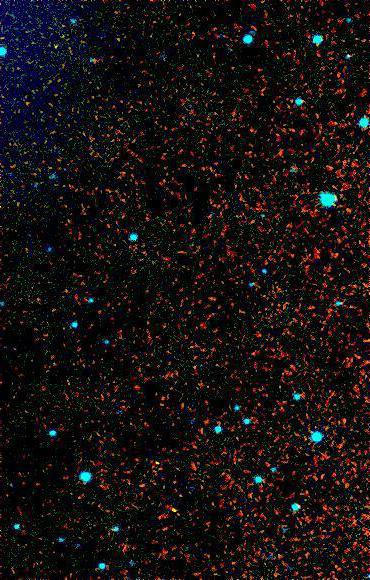star: (40, 31, 70, 61)
